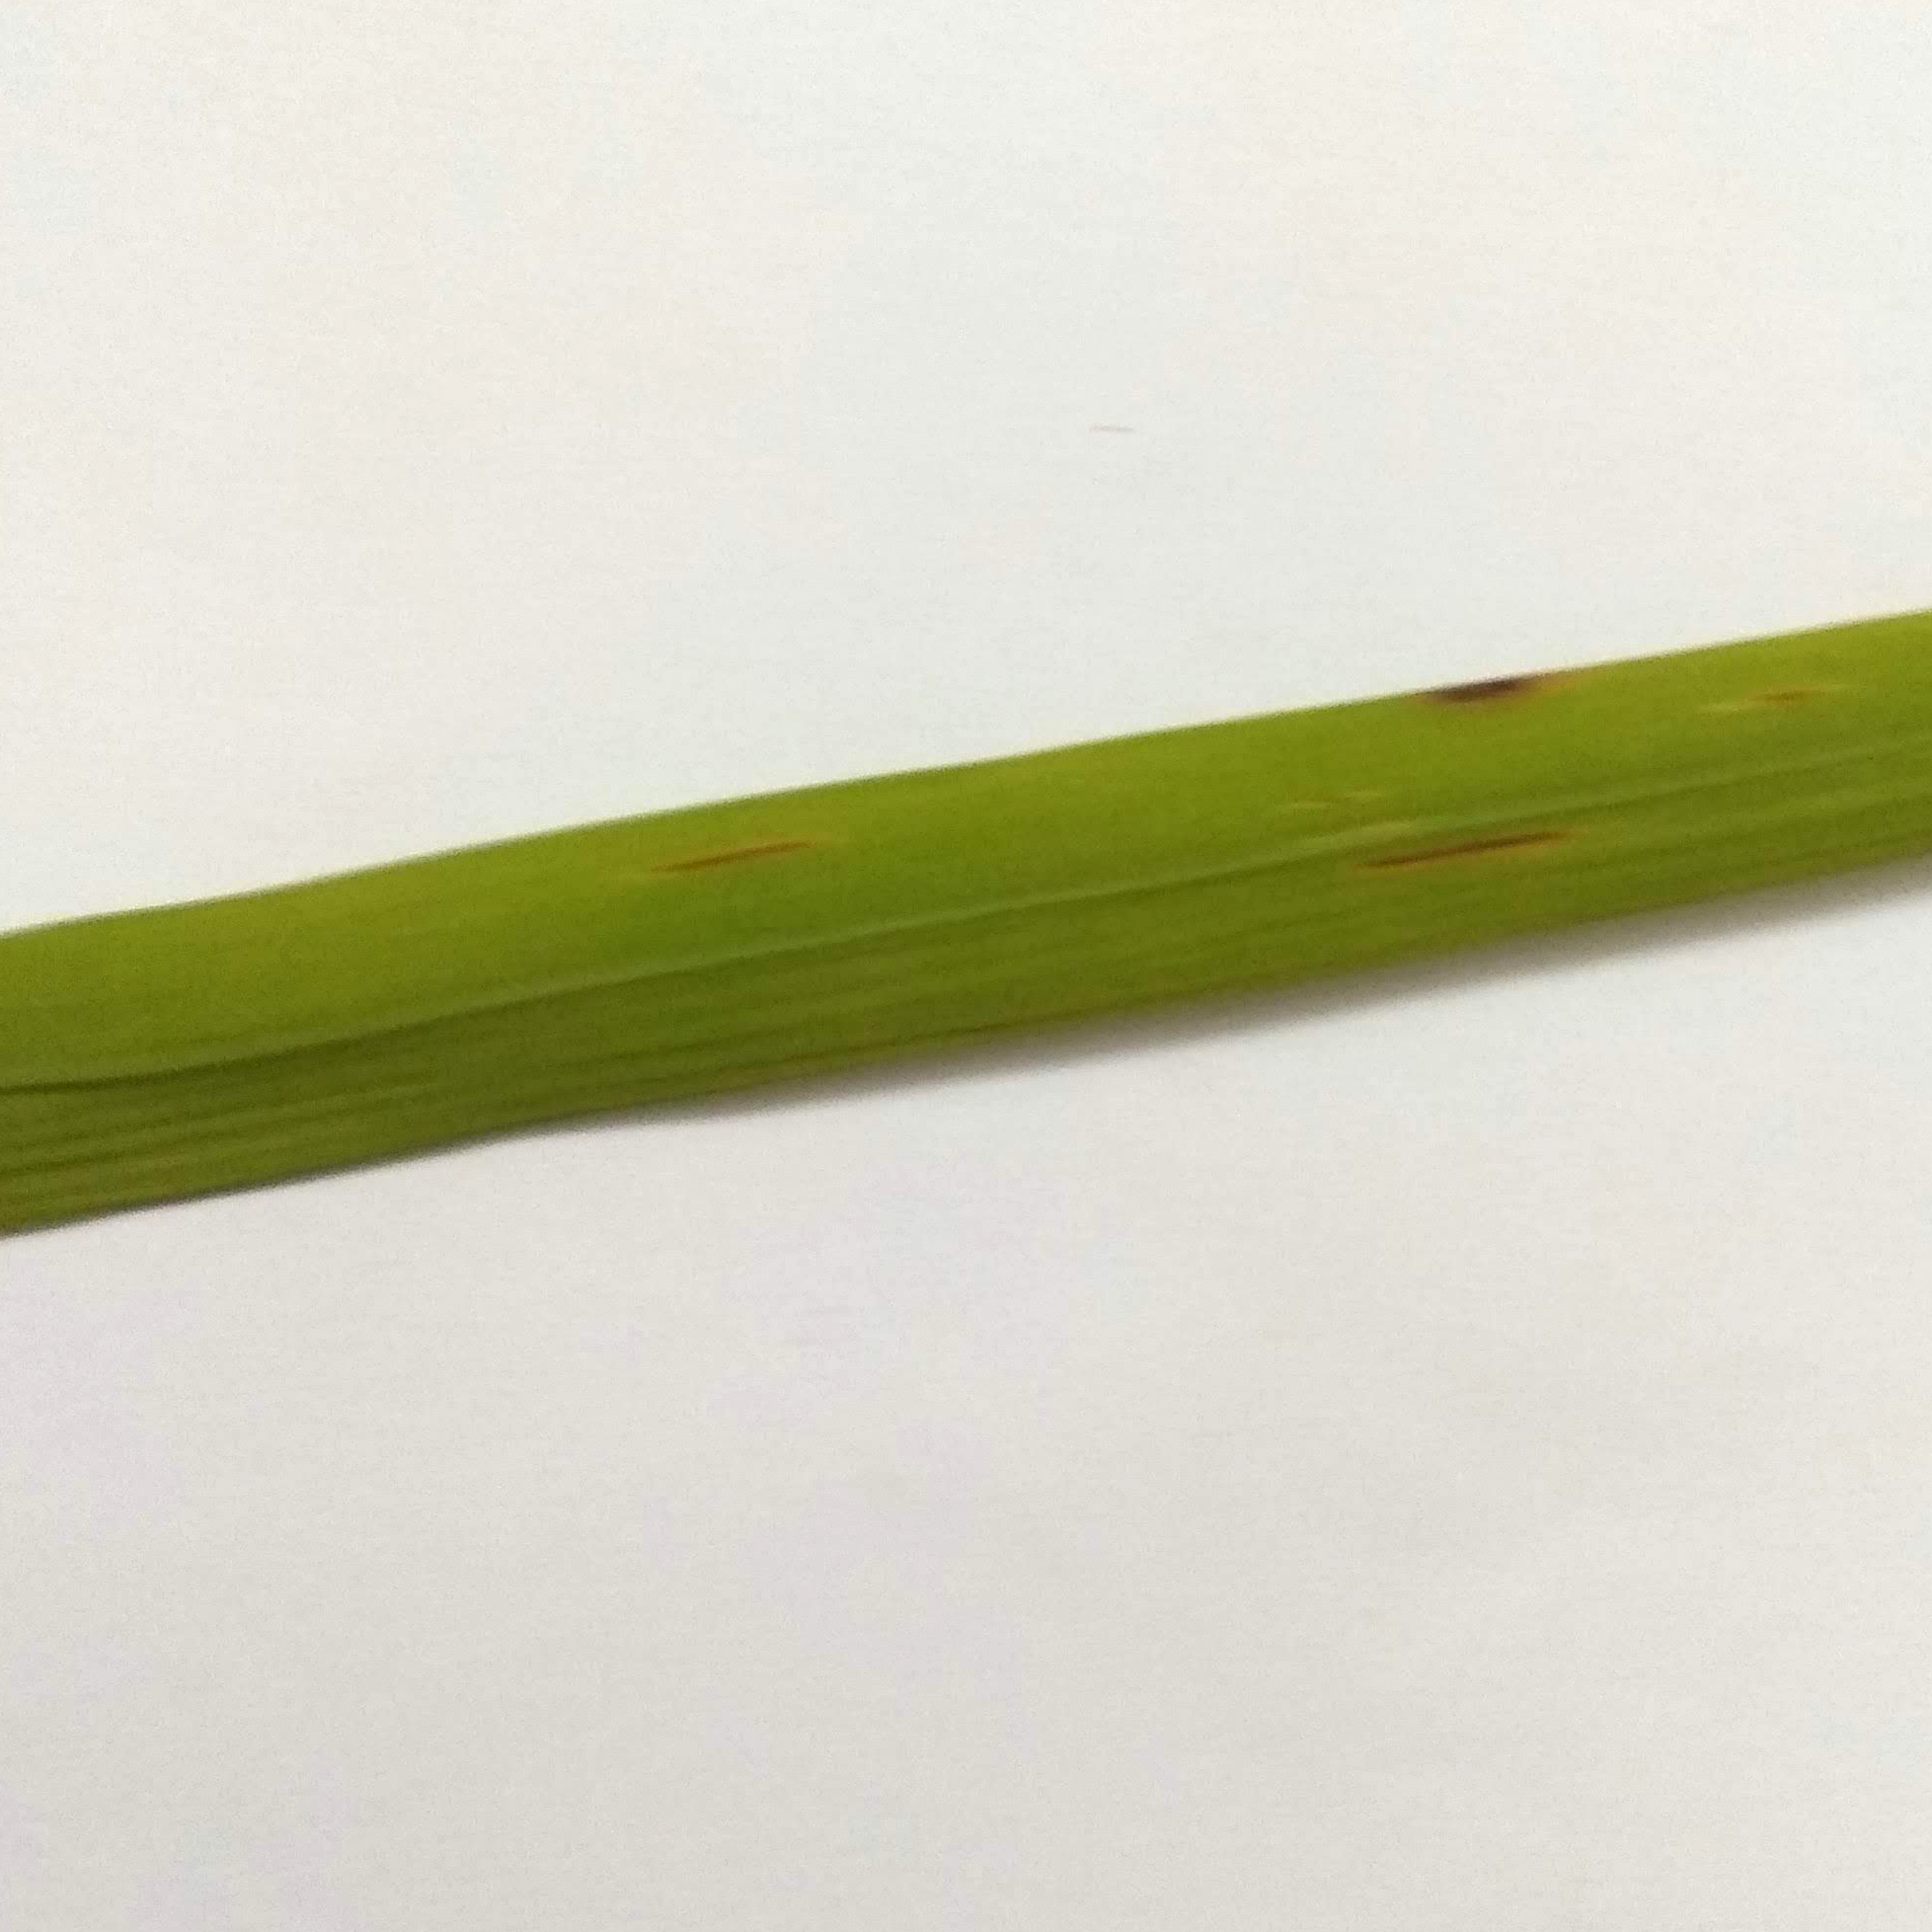brown spot: (1338, 793, 1587, 922), (610, 821, 832, 902), (1410, 655, 1578, 718), (1713, 674, 1842, 727)
